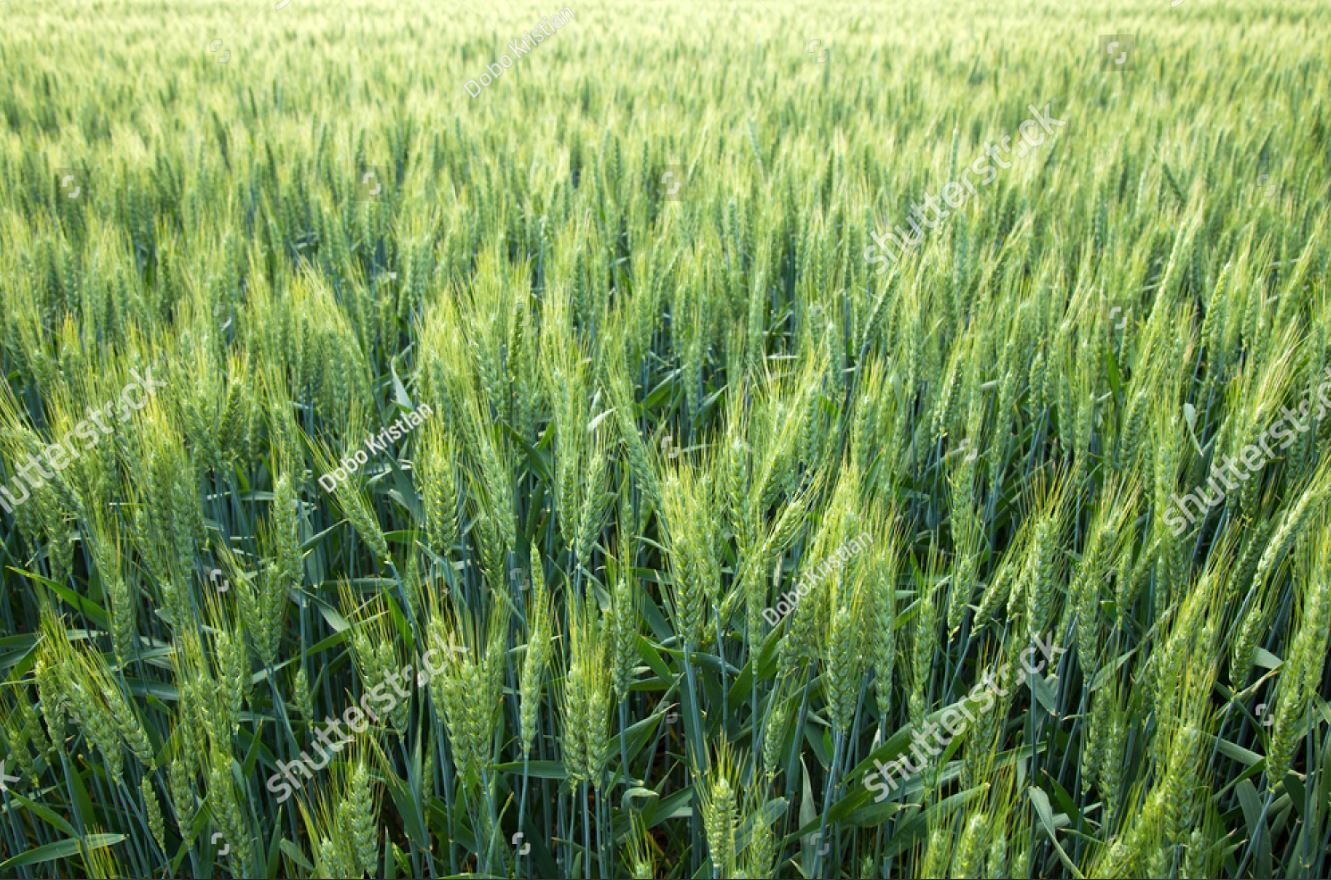Wheat: (216, 198, 816, 757)
